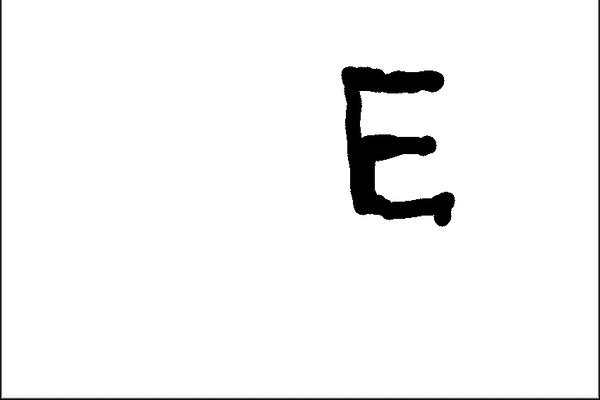E: (335, 59, 461, 228)
